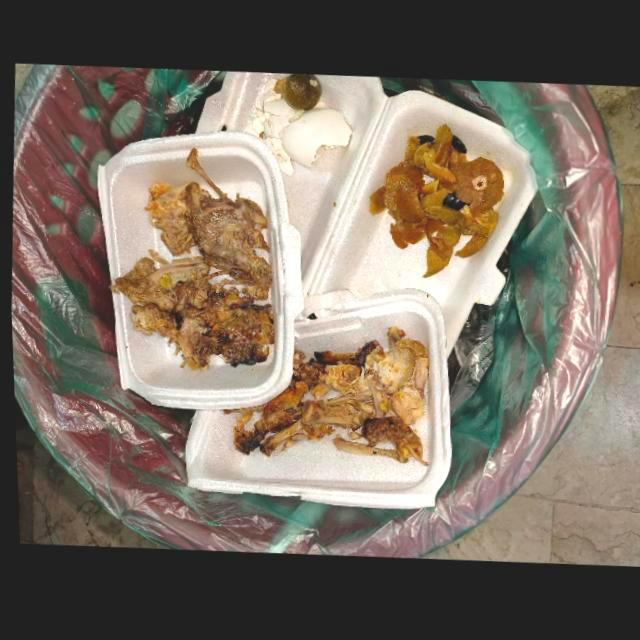left_over_food: (144, 149, 271, 300), (107, 250, 208, 359), (173, 273, 271, 369), (299, 373, 391, 440), (363, 329, 427, 425), (228, 381, 306, 456), (328, 416, 424, 467), (291, 343, 375, 400), (143, 182, 192, 256), (257, 422, 326, 455)
